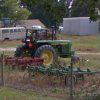Tractor: (17, 23, 89, 76)
